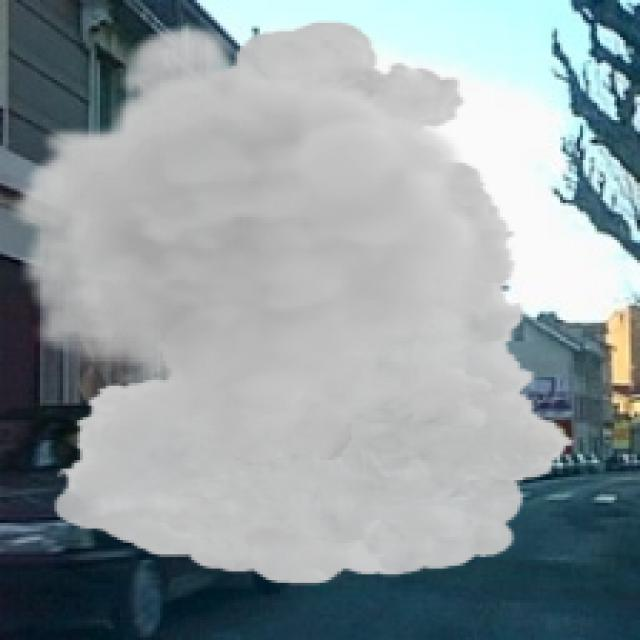smoke: (9, 20, 577, 586)
